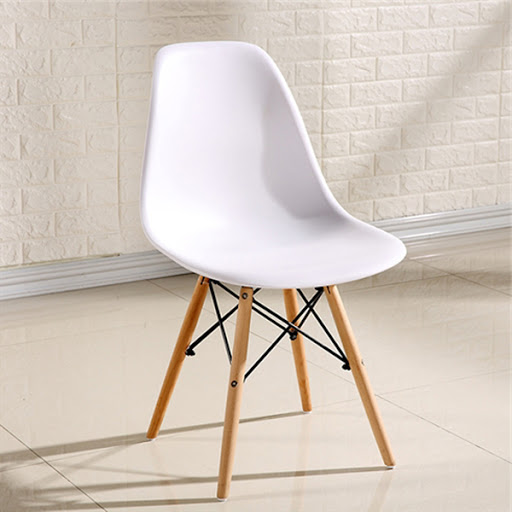seat: (124, 27, 413, 499)
